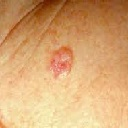Carcinoma: (48, 46, 78, 78)
